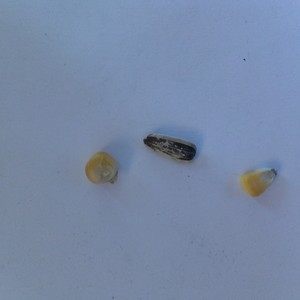girasol: (139, 132, 199, 166)
maiz: (237, 162, 279, 200), (82, 147, 121, 187)
